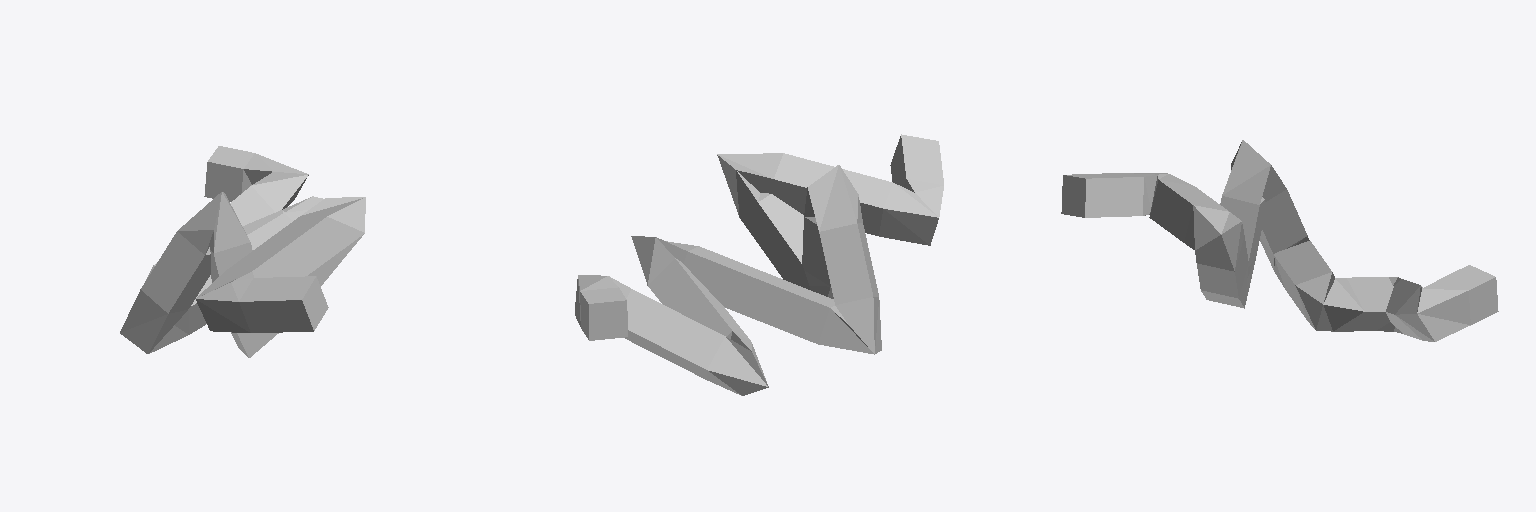
File: pigtail.obj
3 views of the same model, side by side, from view 1: azimuth 30°, elevation 25°; view 2: azimuth 150°, elevation 25°; view 3: azimuth 270°, elevation 25° (orthographic).
Parts seen in each view (by area): view 1: Plane.001; view 2: Plane.001; view 3: Plane.001.
Part boxes in pixels (x1,y1,x2,y2): Plane.001: (120, 146, 365, 357); Plane.001: (575, 134, 943, 395); Plane.001: (1061, 140, 1498, 341).
Size of the model in its own units: 3.55 by 2.54 by 5.53.